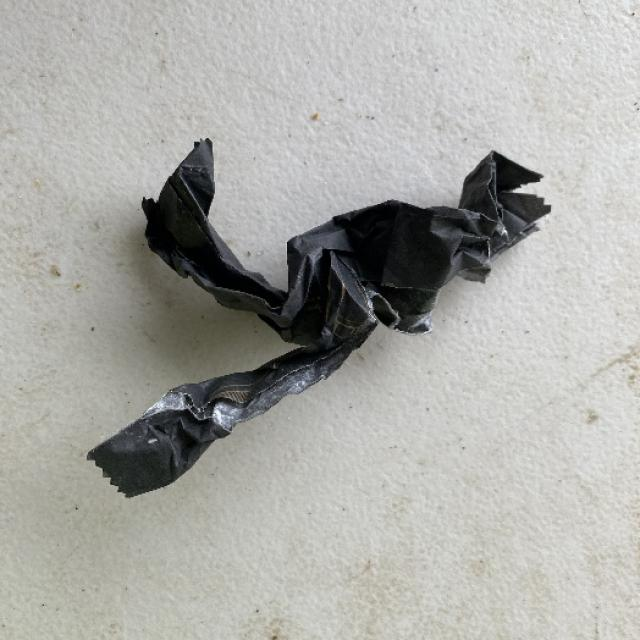paper: (86, 134, 552, 497)
